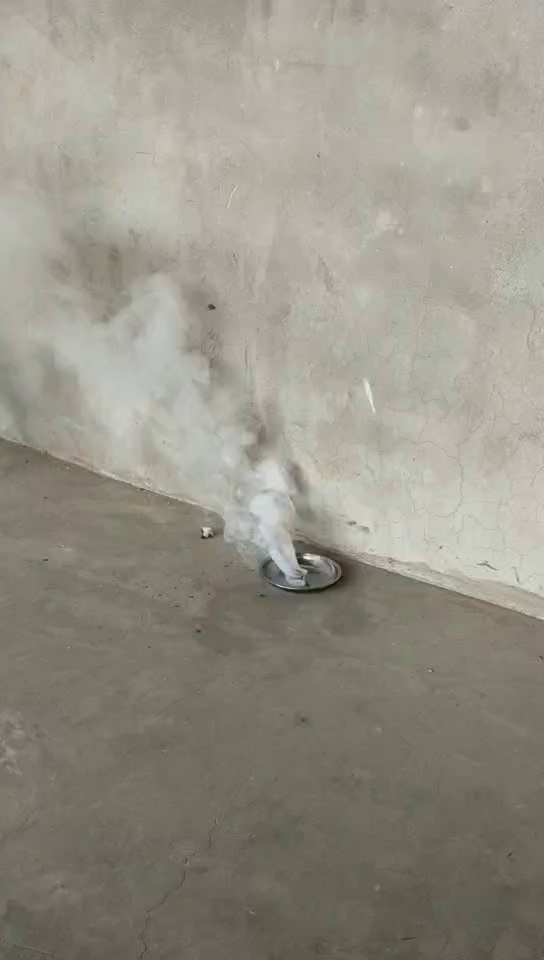smoke: (99, 305, 306, 577)
